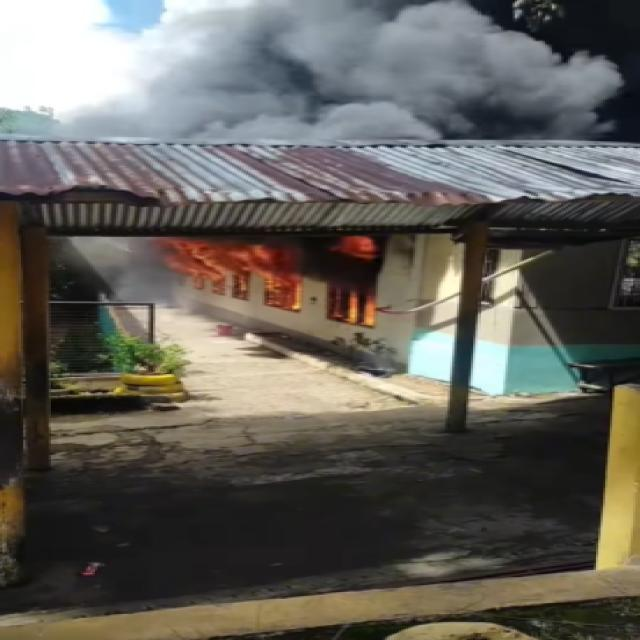Fire: (127, 228, 400, 326)
Smoke: (110, 0, 620, 142)
